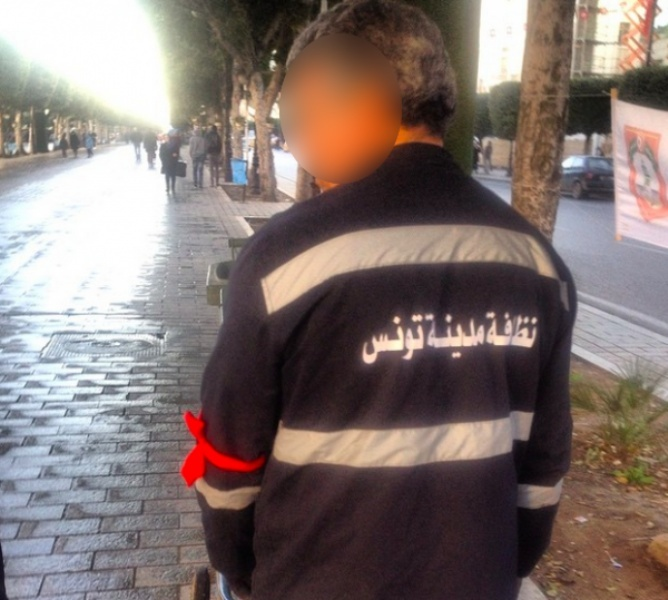text: (369, 312, 384, 366), (385, 312, 400, 366), (401, 312, 416, 366), (433, 312, 448, 359), (449, 312, 464, 359), (465, 312, 480, 359), (497, 310, 512, 351), (513, 310, 528, 351), (483, 310, 496, 351), (417, 312, 426, 366), (422, 312, 432, 359), (529, 310, 540, 351), (361, 312, 368, 366), (481, 312, 487, 359)
